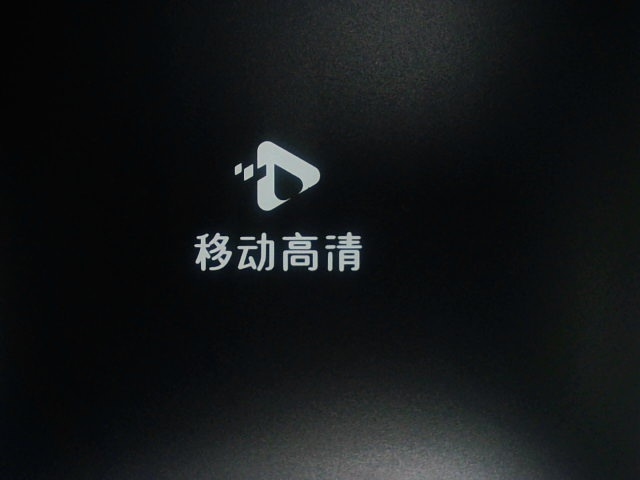AO_MobileHD: (157, 130, 371, 289)
